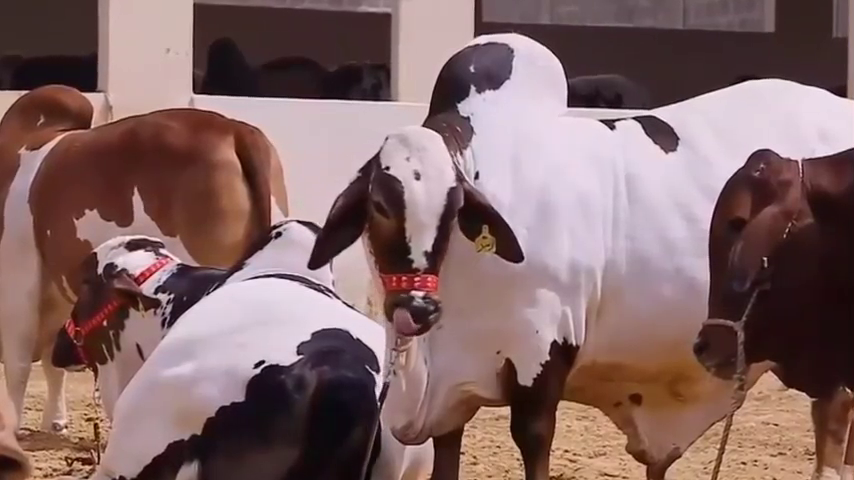bo: (290, 21, 852, 475), (54, 190, 449, 479), (1, 75, 308, 446), (690, 133, 854, 478)
